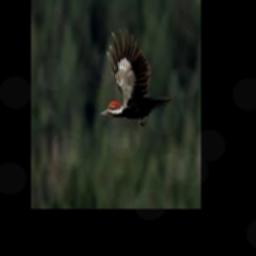Woodpecker: (100, 28, 172, 127)
